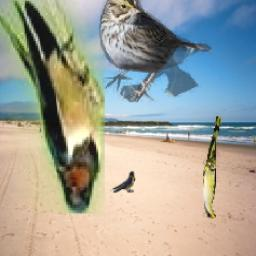Cuckoo: (202, 117, 220, 220)
Sparrow: (99, 0, 212, 102)
Swallow: (0, 0, 104, 215), (110, 171, 136, 194)
